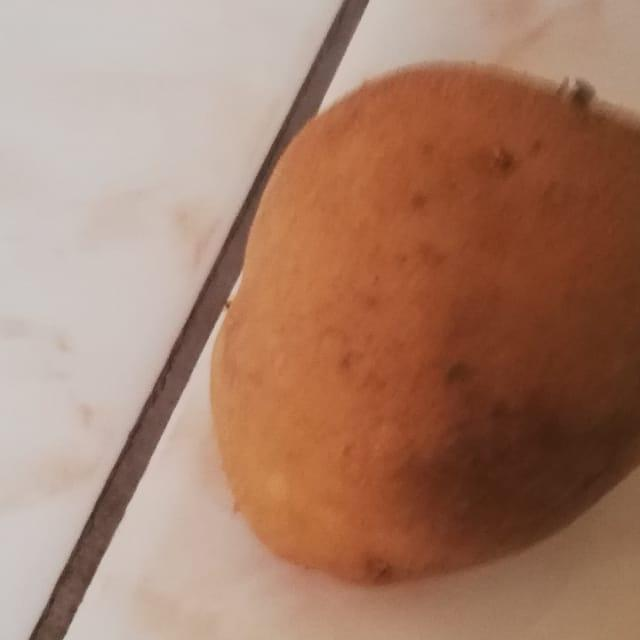potato: (191, 16, 640, 599)
